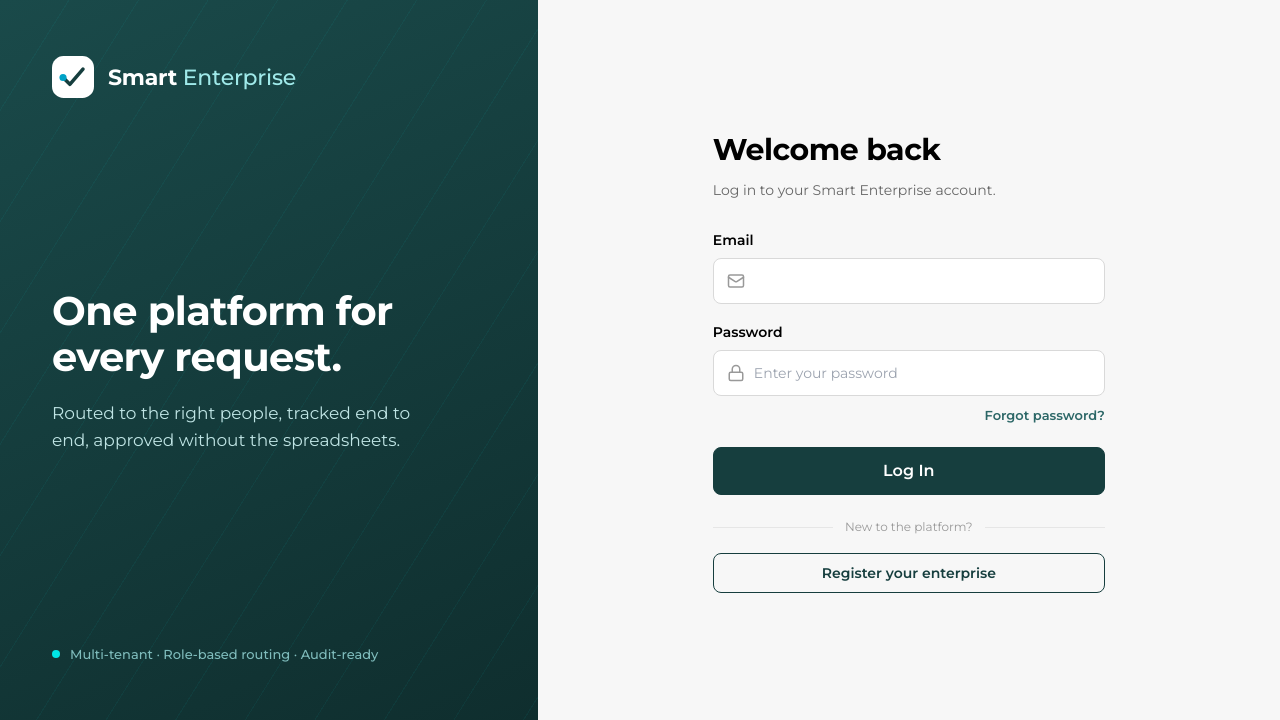
Test: surfaces a 401 error from the API next to the form
The image size is (1280, 720).
In the password field labelled "Password": coordinates (922, 373) [754, 363, 1091, 383], type "wrong"
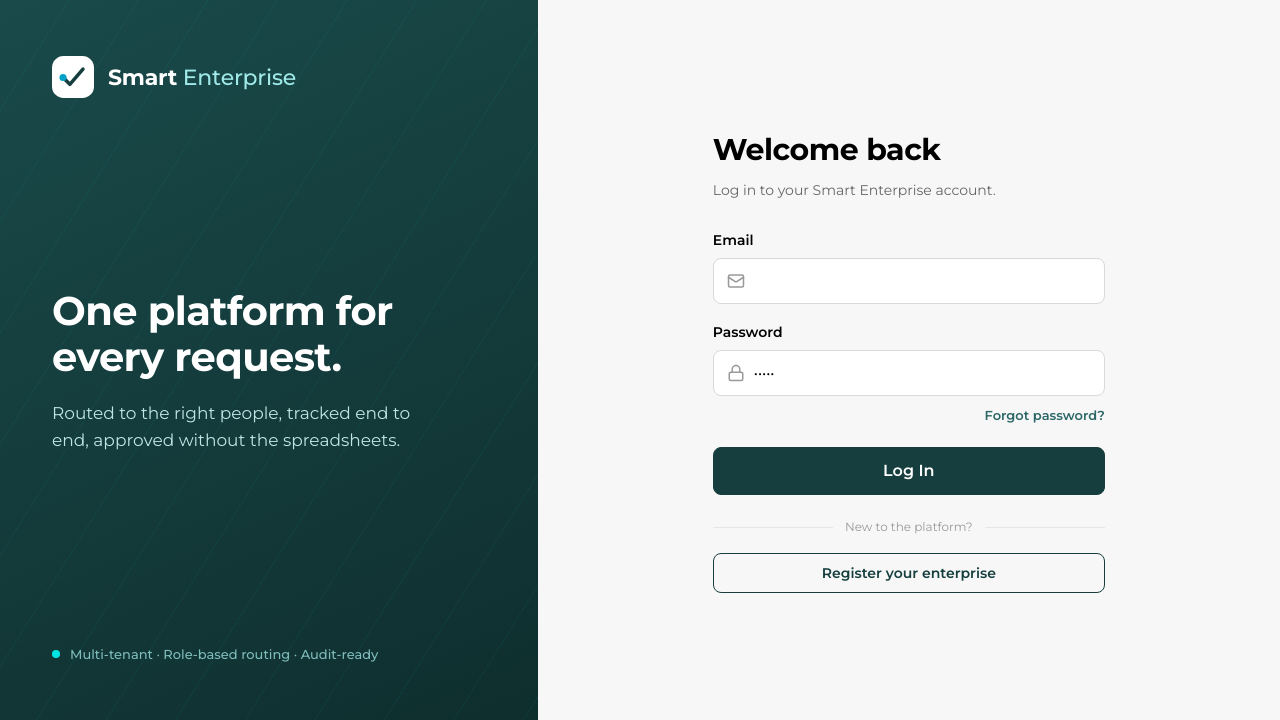
Click the button "Log In": coordinates (909, 471) [713, 447, 1105, 495]
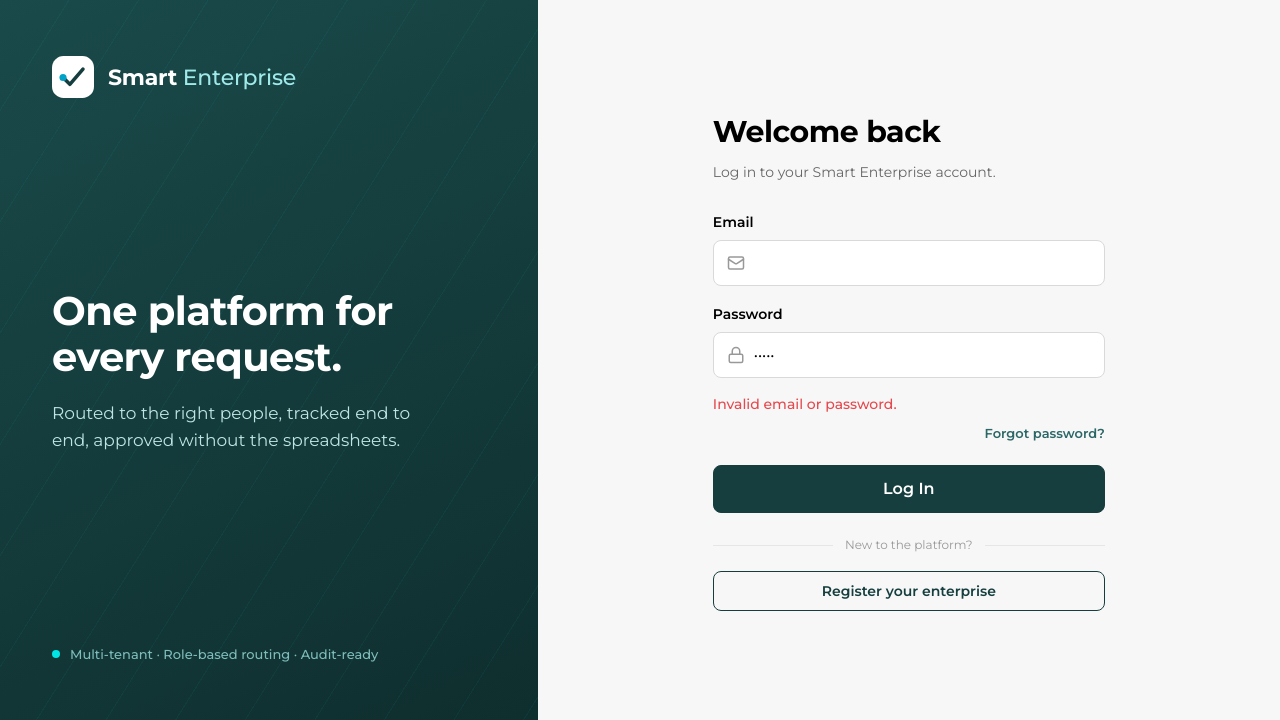
Expected: the text "Invalid email or password." is shown, [713, 395, 897, 413]
